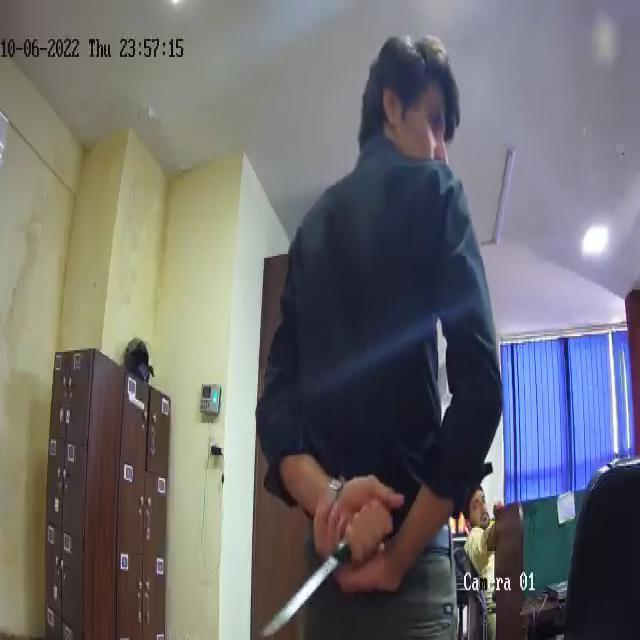Knife: (252, 485, 392, 640)
